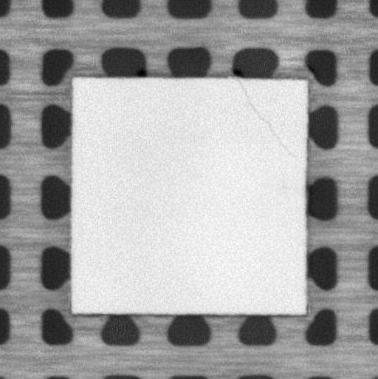DIE_CRACK: (237, 79, 294, 157)
